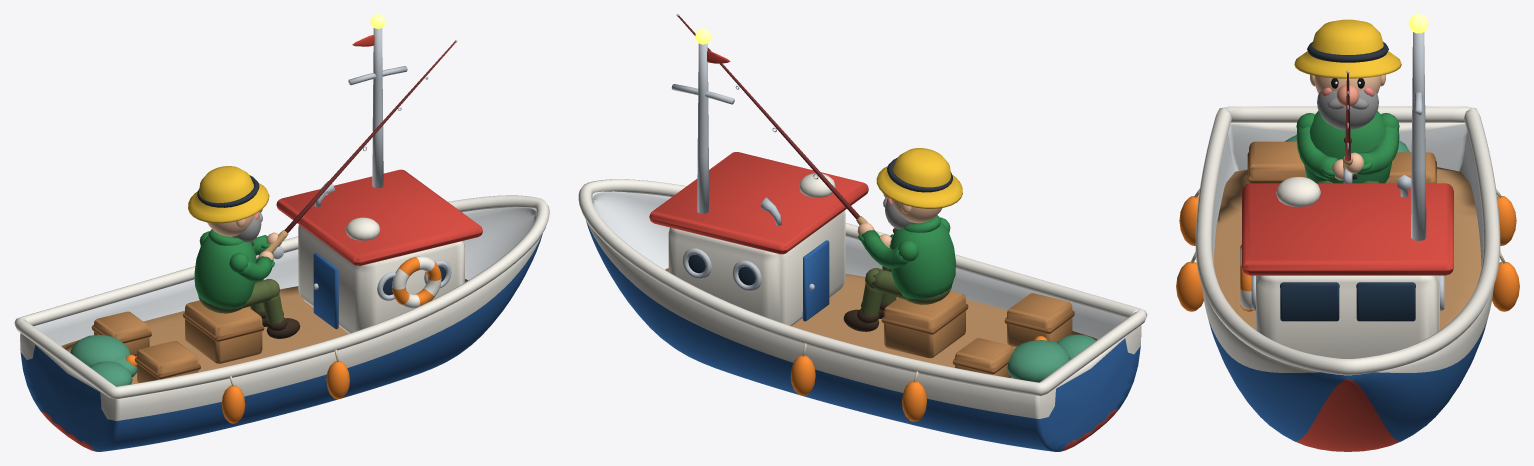
File: boat_trawler.glb
3 renders of one model, left to right at view 1: azimuth 30°, elevation 25°; view 2: azimuth 150°, elevation 25°; view 3: azimuth 270°, elevation 25°, orthographic. The views are drawn at different scales.
Visible parts, largest first — view 1: Boat, Rod; view 2: Boat, Rod; view 3: Boat, Rod.
Boxes of the visible parts, x1=… form: Boat: x1=14, y1=14, x2=549, y2=451; Rod: x1=256, y1=40, x2=457, y2=259; Boat: x1=578, y1=28, x2=1147, y2=451; Rod: x1=676, y1=14, x2=889, y2=247; Boat: x1=1176, y1=14, x2=1519, y2=451; Rod: x1=1343, y1=70, x2=1357, y2=183.
Size of the model in its own units: 5.16 by 3.31 by 2.43.
